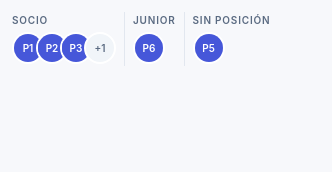
PositionAvatarGroups › uses position and contextual role in the avatar tooltip
Step 1. Focus the link named "P1, Persona 1, Socio" → x=28, y=48, box [12,30,44,66]
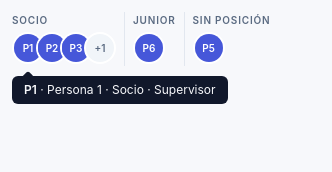
Check: the tooltip reads "P1 · Persona 1 · Socio · Supervisor", box [12,76,228,104]
